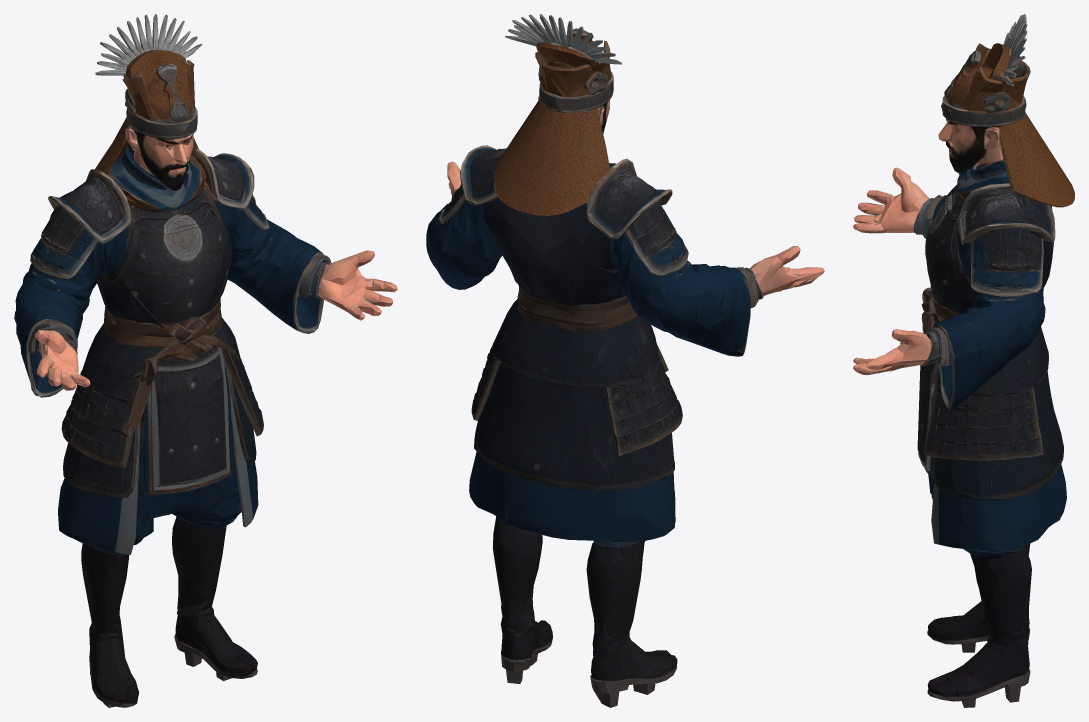
File: char_OFF_photuong.glb
3 renders of one model, left to right at view 1: azimuth 30°, elevation 25°; view 2: azimuth 150°, elevation 25°; view 3: azimuth 270°, elevation 25°, orthographic. The views are drawn at different scales.
Size of the model in its own units: 1.09 by 1.9 by 0.5832.
Materials: 1 (1 with a texture image).
